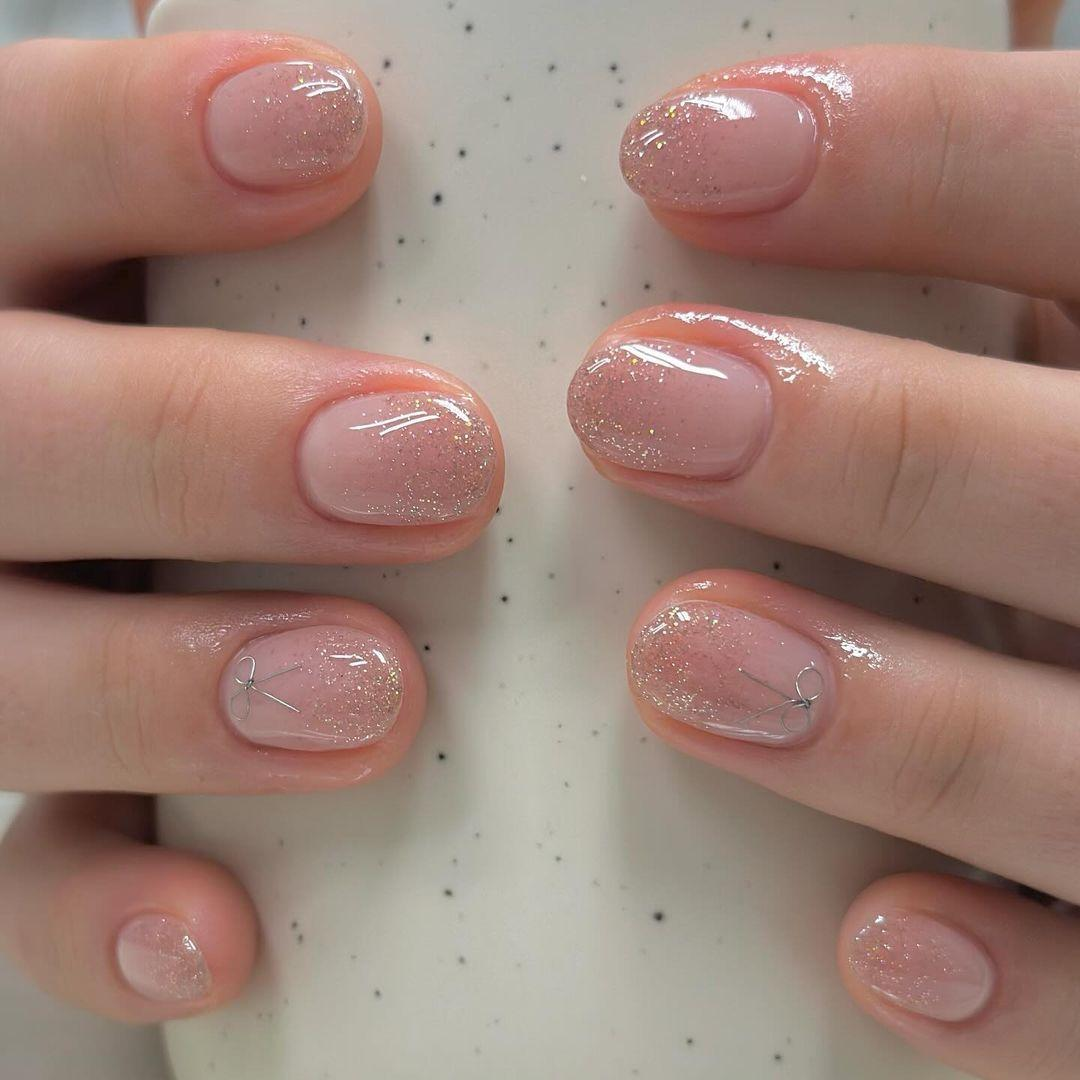nail: (292, 372, 502, 529), (626, 596, 839, 749), (566, 332, 775, 485), (617, 82, 823, 217), (218, 620, 406, 754), (198, 54, 369, 194), (844, 903, 998, 1025), (112, 909, 213, 1003)
